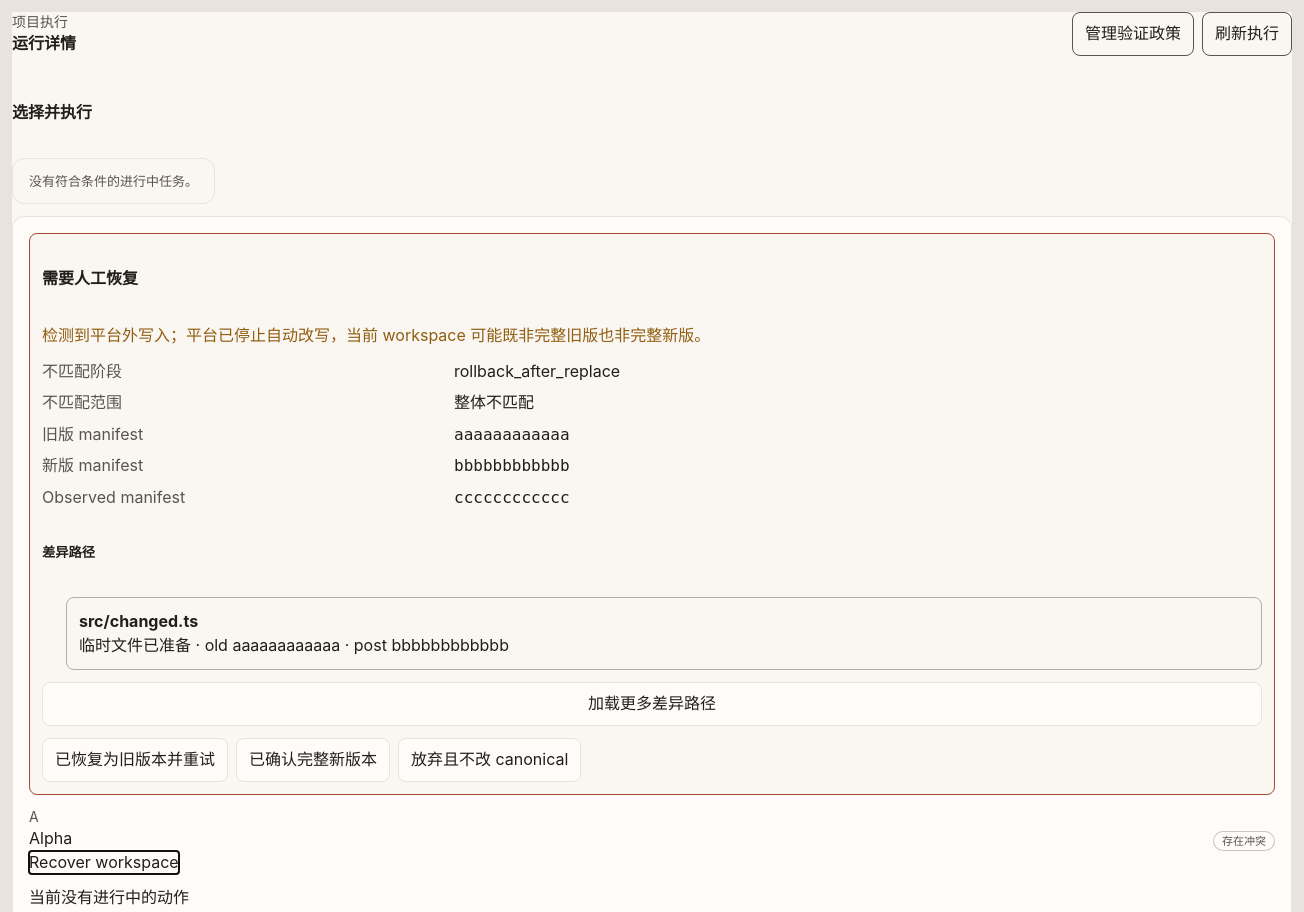
T-30 manual recovery UI › replaces ordinary actions, shows manifest facts, and independently pages affected paths
The width and height of the screenshot is (1304, 912).
Expected: the element "需要人工恢复" shows "rollback_after_replace", [454, 361, 620, 381]
Expected: the element "需要人工恢复" shows "整体不匹配", [454, 392, 534, 412]
Click the button "加载更多差异路径" at x=652, y=704, box [42, 682, 1262, 726]
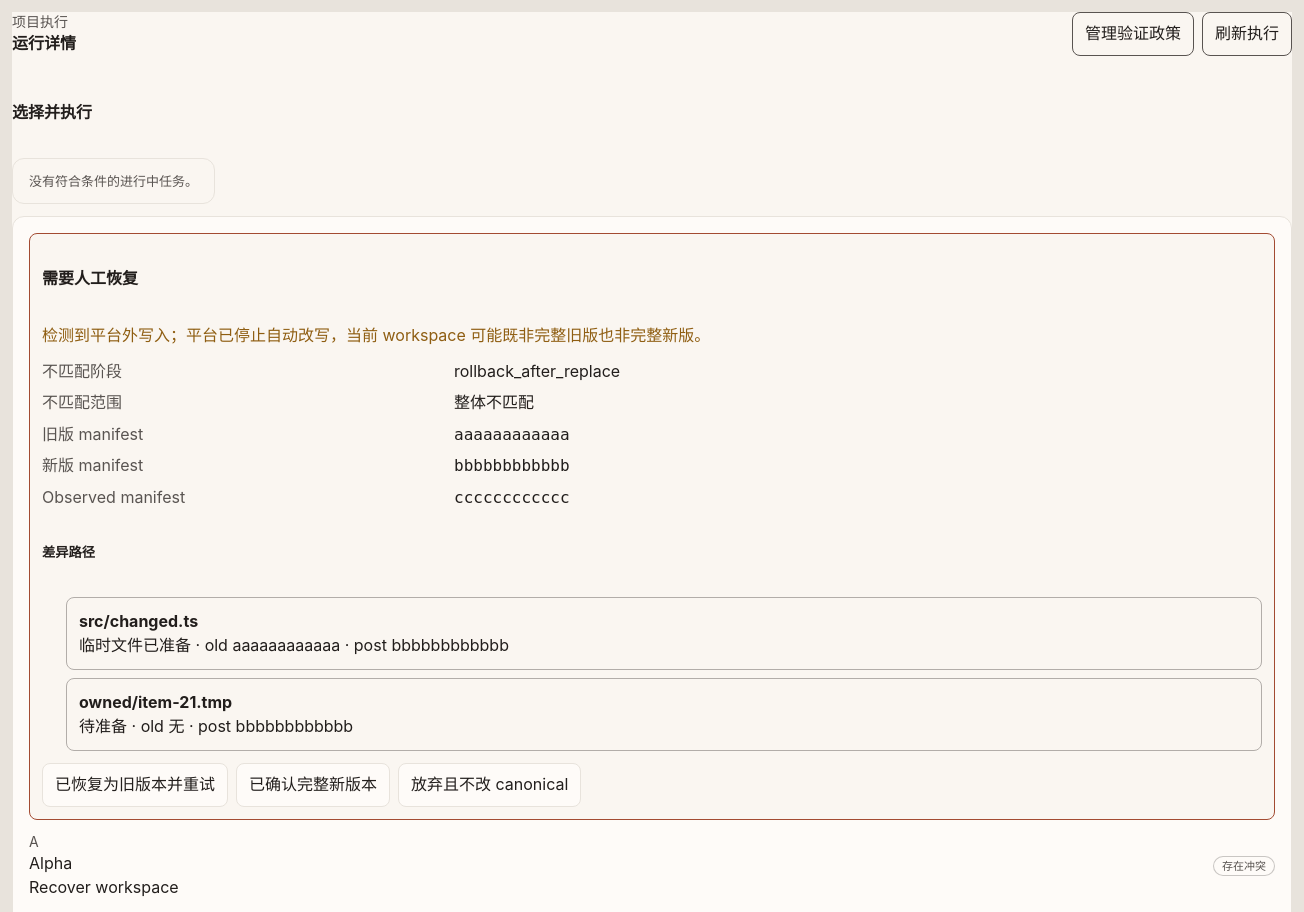
Result: the text "owned/item-21.tmp" is shown at [79, 692, 232, 712]
